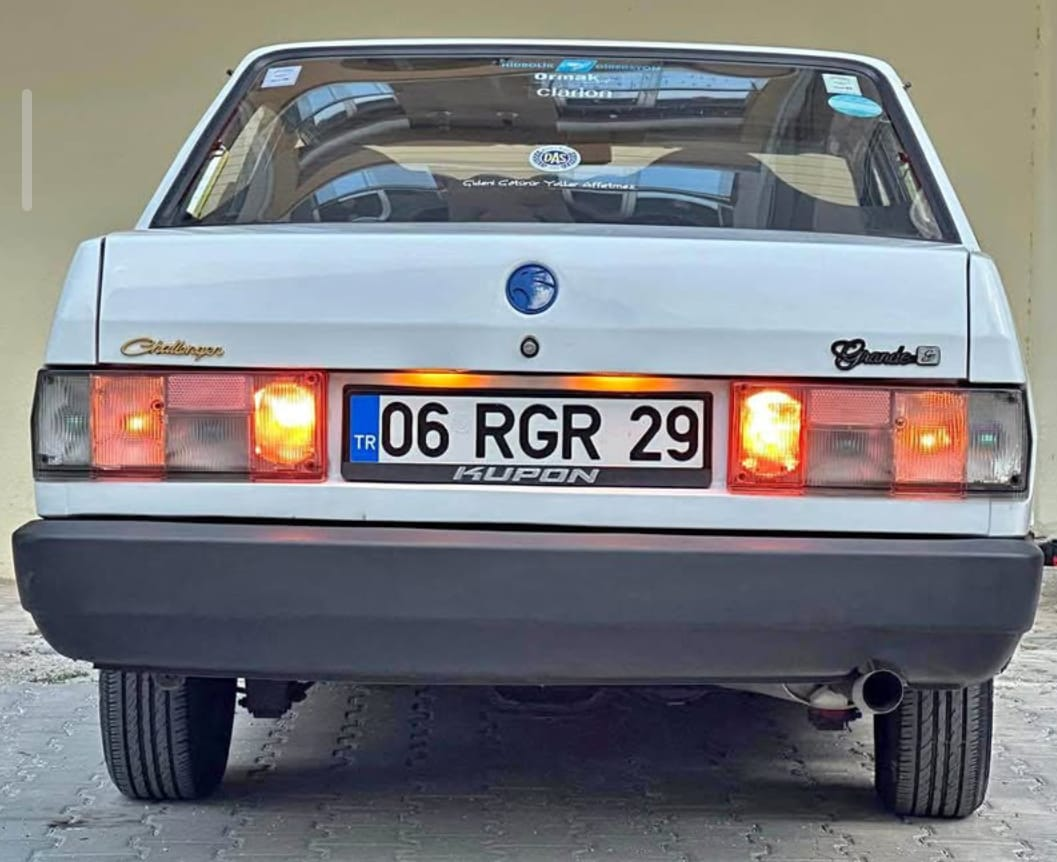plaka: (373, 370, 711, 478)
